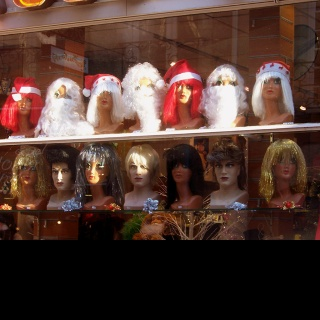without_mask: (215, 158, 239, 186), (128, 158, 150, 187), (51, 162, 72, 190), (272, 154, 296, 178), (85, 160, 108, 184), (260, 75, 283, 99), (171, 162, 193, 181), (18, 165, 37, 184), (95, 90, 113, 109), (176, 84, 193, 103), (214, 73, 237, 86), (17, 95, 32, 114), (52, 86, 71, 100), (135, 78, 155, 89)
